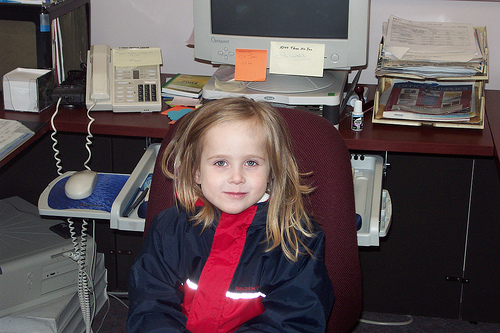without_mask: (191, 108, 281, 216)
